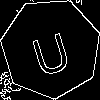U: (26, 23, 74, 78)
